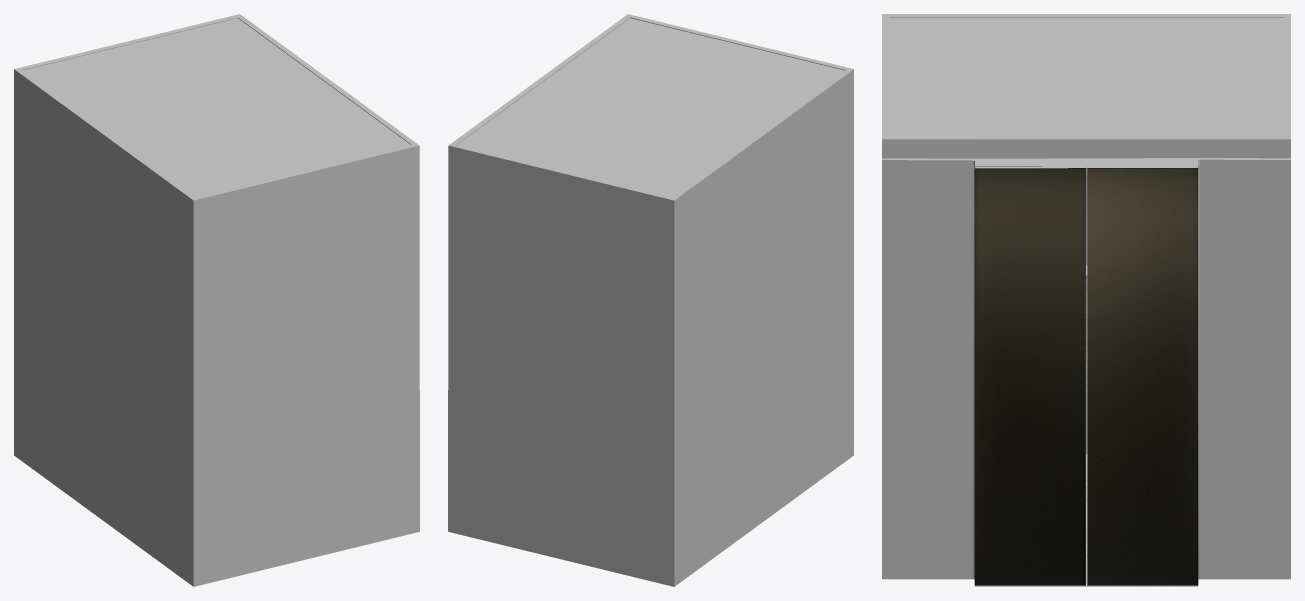
Rendered from Elevator.fbx.
3 renders of one model, left to right at view 1: azimuth 30°, elevation 25°; view 2: azimuth 150°, elevation 25°; view 3: azimuth 270°, elevation 25°, orthographic. The views are drawn at different scales.
Visible parts, largest first — view 1: Elevator Body.001; view 2: Elevator Body.001; view 3: Elevator Body.001, LeftDoor.000, LeftDoor.001.
Part boxes in pixels (bbox=[...]): Elevator Body.001: bbox=[14, 14, 419, 586]; Elevator Body.001: bbox=[448, 14, 853, 586]; Elevator Body.001: bbox=[882, 14, 1290, 586]; LeftDoor.000: bbox=[974, 166, 1085, 585]; LeftDoor.001: bbox=[1087, 167, 1198, 585].
Bounding box in the file's own units: 849 × 1305 × 1100.
